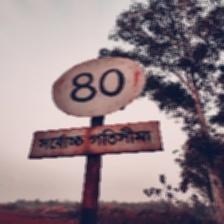Speed-limit: (30, 54, 161, 158)
